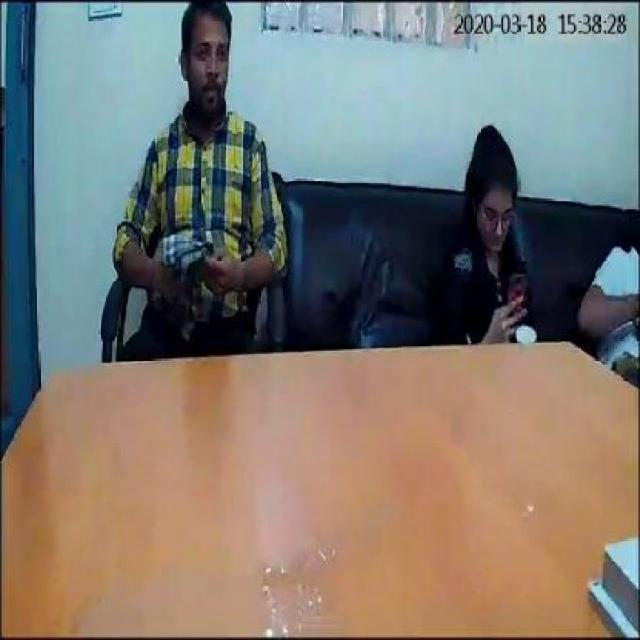spill: (82, 512, 398, 634)
